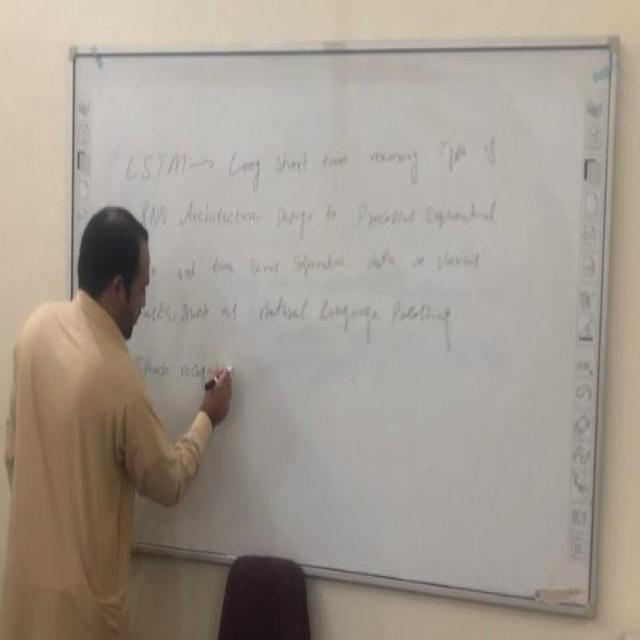Instructor: (11, 198, 156, 640)
White-board: (61, 47, 618, 611)
